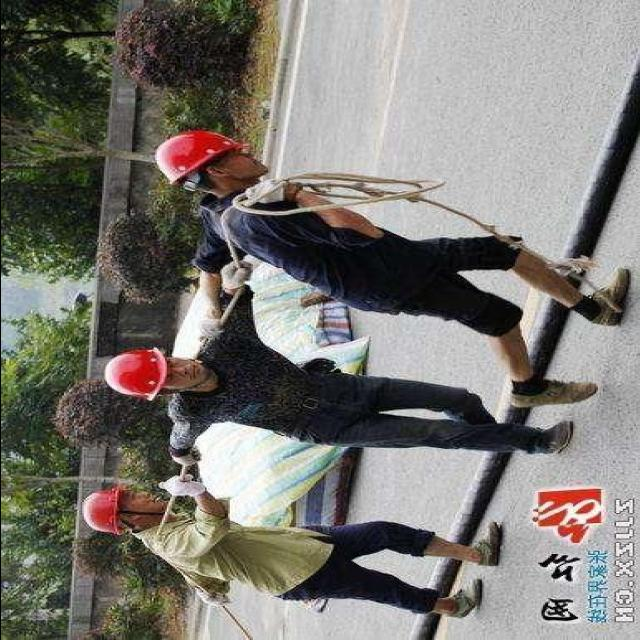helmet: (150, 119, 238, 191), (98, 338, 168, 408), (80, 476, 132, 544)
